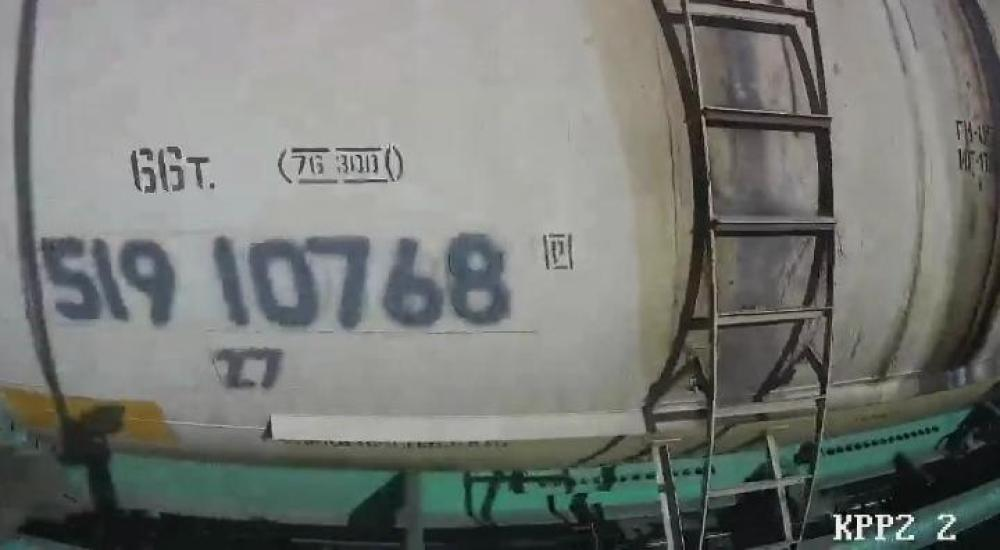Wagon-number: (39, 227, 518, 334)
